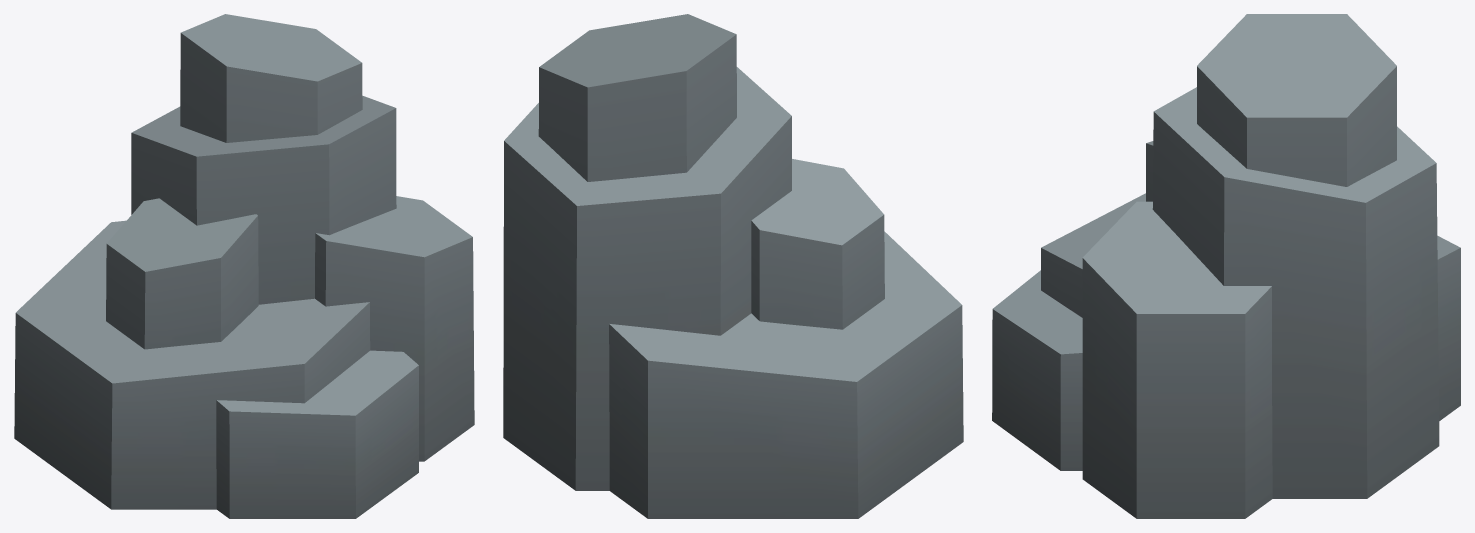
Rendered from kaykit-medieval-hexagon-pack-mountain-b.glb.
The picture shows the model from 3 angles, left to right: view 1: azimuth 30°, elevation 25°; view 2: azimuth 150°, elevation 25°; view 3: azimuth 270°, elevation 25°; orthographic projection. The views are drawn at different scales.
Parts seen in each view (by area): view 1: mountain_B; view 2: mountain_B; view 3: mountain_B.
Boxes of the visible parts, bbox=[...] form: mountain_B: bbox=[14, 14, 474, 518]; mountain_B: bbox=[503, 14, 963, 518]; mountain_B: bbox=[992, 14, 1460, 518].
Size of the model in its own units: 1.8 by 1.77 by 1.88.
Materials: 1 (1 with a texture image).
